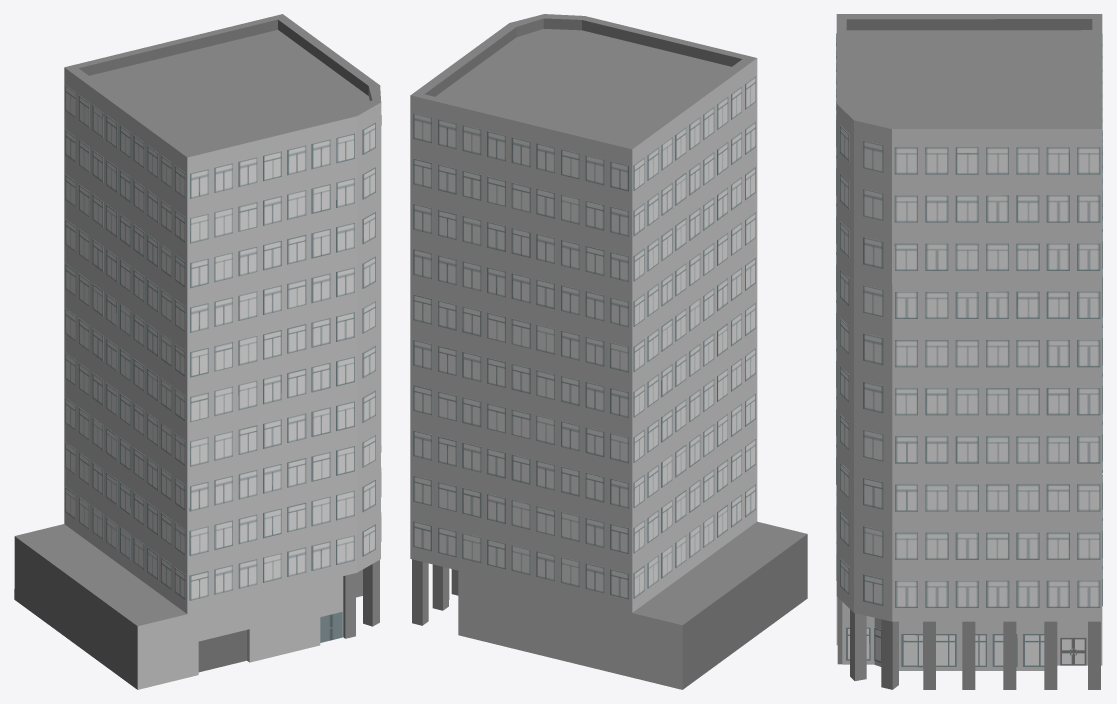
The model's file is Build_A..fbx.
The picture shows the model from 3 angles, left to right: view 1: azimuth 30°, elevation 25°; view 2: azimuth 150°, elevation 25°; view 3: azimuth 270°, elevation 25°; orthographic projection. The views are drawn at different scales.
Visible parts, largest first — view 1: Building_A; view 2: Building_A; view 3: Building_A.
Boxes of the visible parts, bbox=[...] form: Building_A: bbox=[14, 14, 381, 689]; Building_A: bbox=[410, 14, 807, 689]; Building_A: bbox=[836, 14, 1102, 689].
Size of the model in its own units: 2203 by 4080 by 1758.
1 material, 1 textured.
